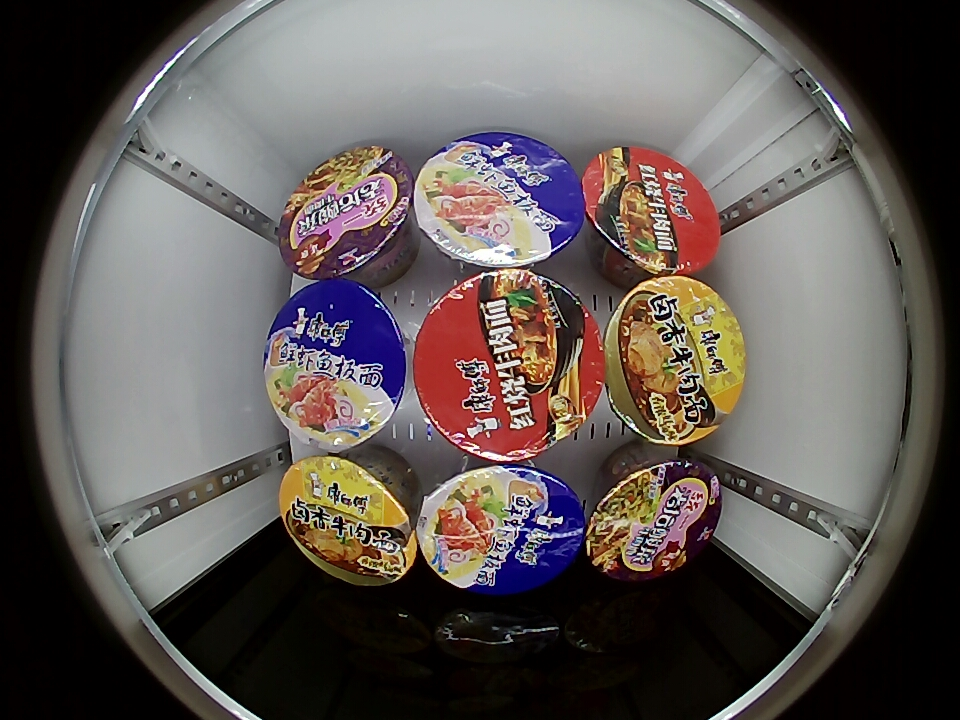hongshaoniurou: (412, 268, 606, 462), (581, 146, 721, 276)
laotansuancai: (278, 144, 415, 280), (586, 452, 723, 581)
luxiangniurou: (603, 276, 746, 445), (279, 455, 418, 585)
xianxiayuban: (263, 280, 408, 449), (413, 132, 587, 269), (416, 464, 588, 594)
